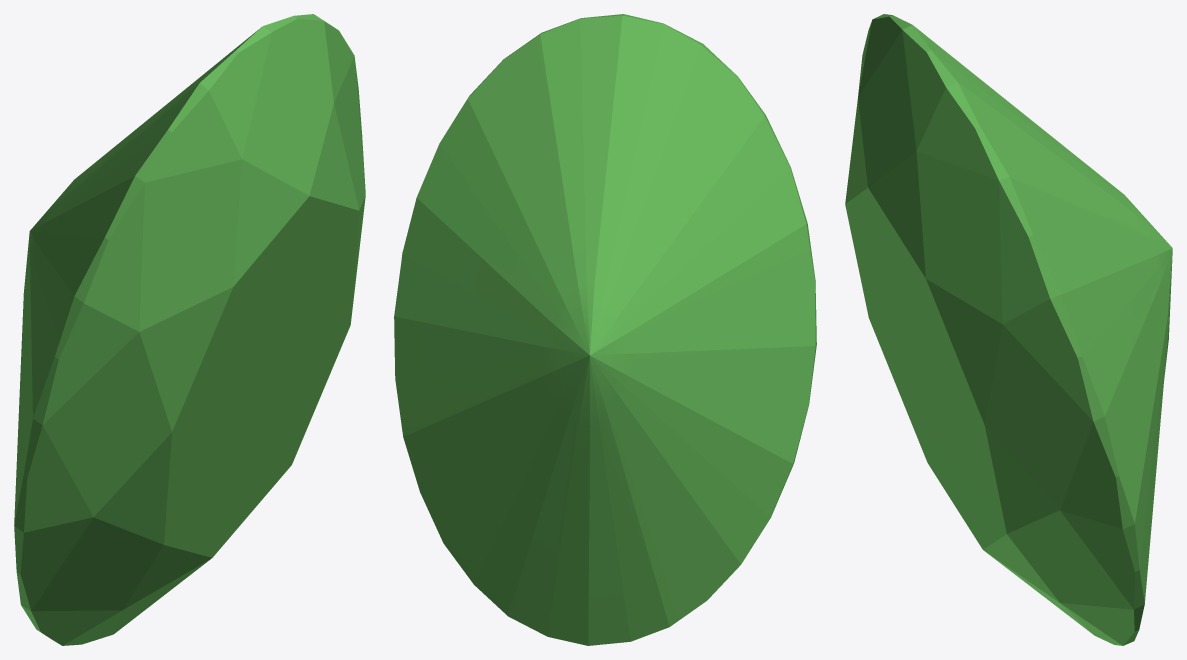
The model's file is BR2_8shapes_Oval_Classic_Stone.001 2.glb.
3 renders of one model, left to right at view 1: azimuth 30°, elevation 25°; view 2: azimuth 150°, elevation 25°; view 3: azimuth 270°, elevation 25°, orthographic. The views are drawn at different scales.
Visible parts, largest first — view 1: BR2_8shapes_Oval_Classic_Stone.001; view 2: BR2_8shapes_Oval_Classic_Stone.001; view 3: BR2_8shapes_Oval_Classic_Stone.001.
Boxes of the visible parts, left/top/right/bottom form: BR2_8shapes_Oval_Classic_Stone.001: left=14, top=14, right=365, bottom=645; BR2_8shapes_Oval_Classic_Stone.001: left=394, top=14, right=816, bottom=645; BR2_8shapes_Oval_Classic_Stone.001: left=845, top=14, right=1172, bottom=645.
Size of the model in its own units: 0.3525 by 0.5516 by 0.2576.
